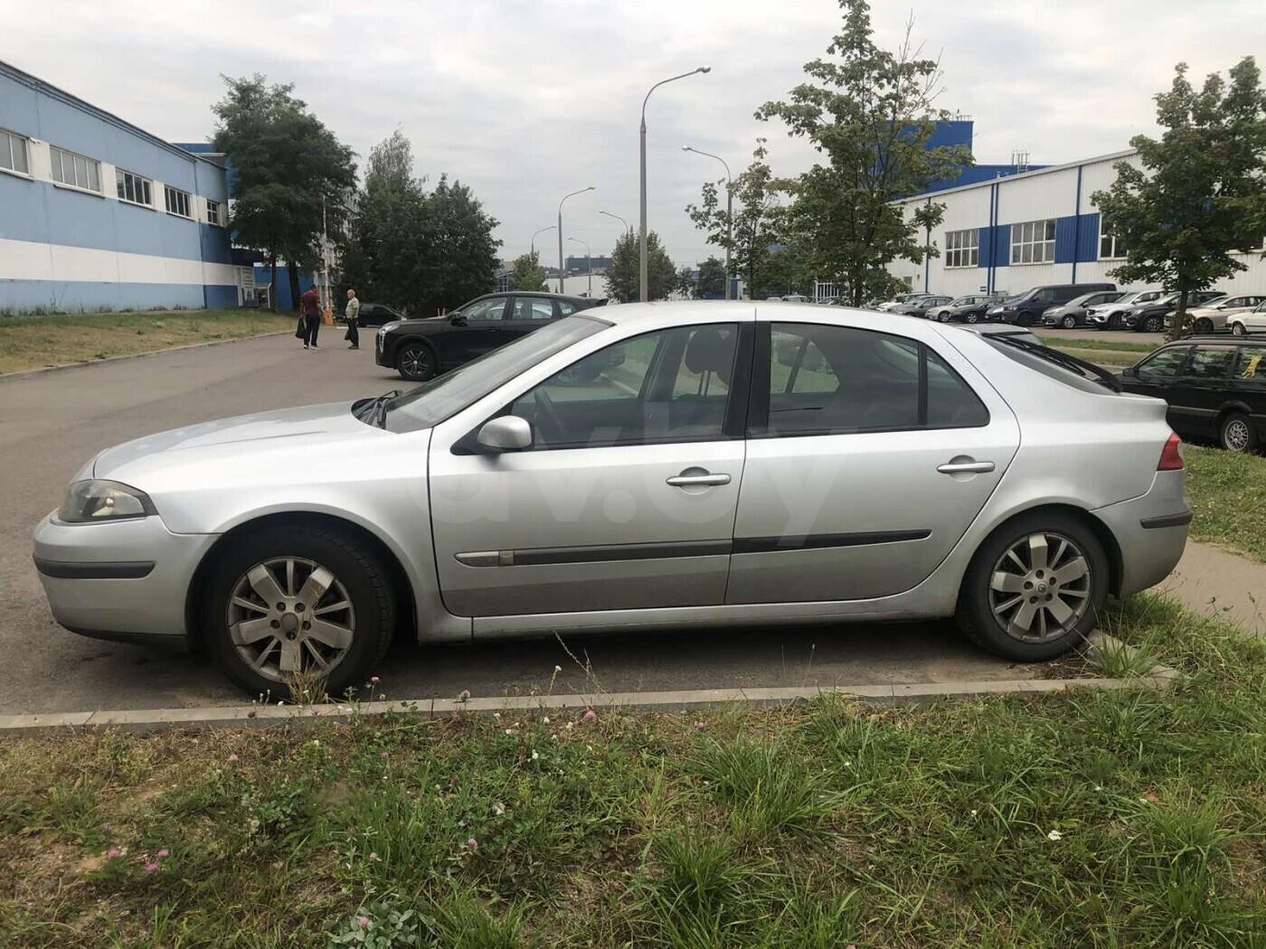Laguna_2005-2007: (32, 287, 1198, 701)
